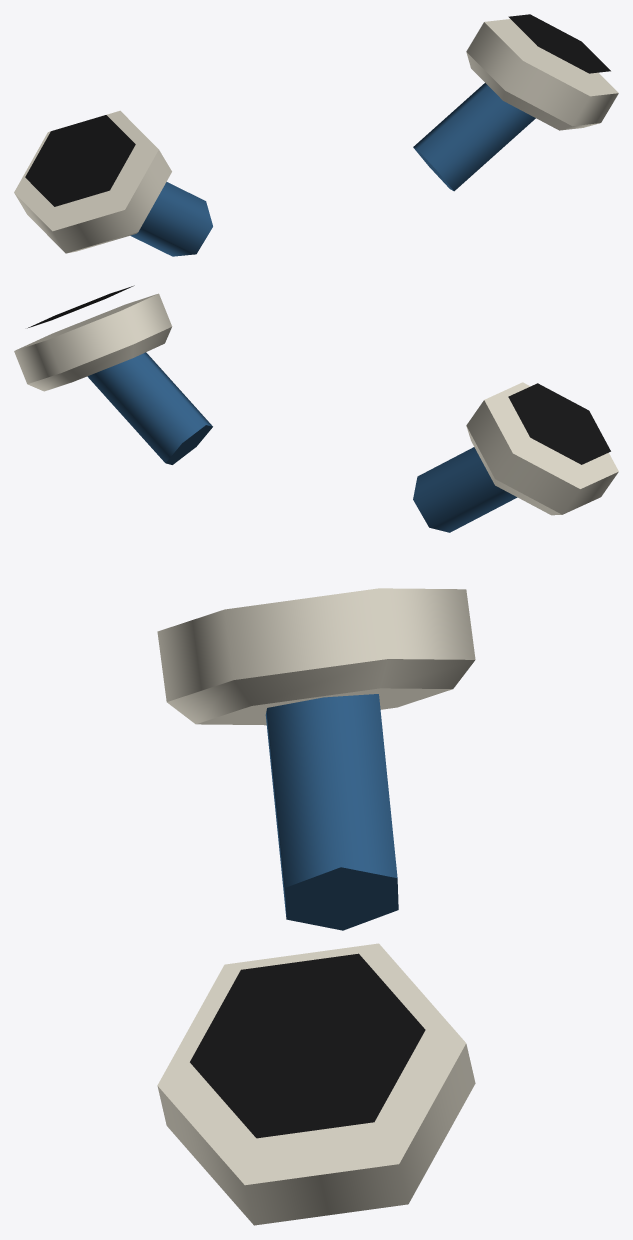
File: rm2_thrusters_aft.obj
The picture shows the model from 3 angles, top to bottom: view 1: azimuth 30°, elevation 25°; view 2: azimuth 150°, elevation 25°; view 3: azimuth 270°, elevation 25°; orthographic projection. The views are drawn at different scales.
Visible parts, largest first — view 1: rm2_thrusters_aft; view 2: rm2_thrusters_aft; view 3: rm2_thrusters_aft.
Boxes of the visible parts, left/top/right/bottom form: rm2_thrusters_aft: left=14, top=14, right=618, bottom=256; rm2_thrusters_aft: left=14, top=285, right=618, bottom=532; rm2_thrusters_aft: left=157, top=588, right=475, bottom=1225.
Bounding box in the file's own units: 0.6029 × 0.1569 × 0.1467.
